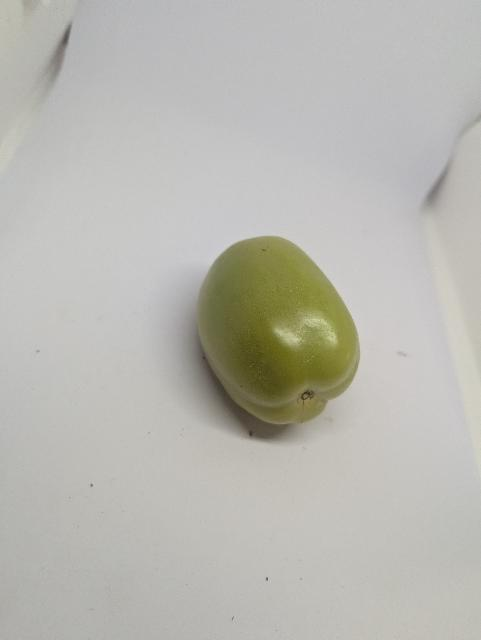green: (195, 234, 363, 428)
